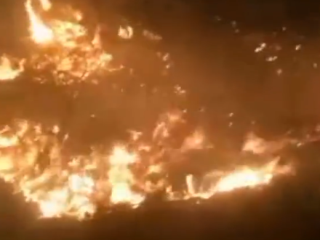fire: (2, 118, 292, 213), (4, 6, 120, 82)
